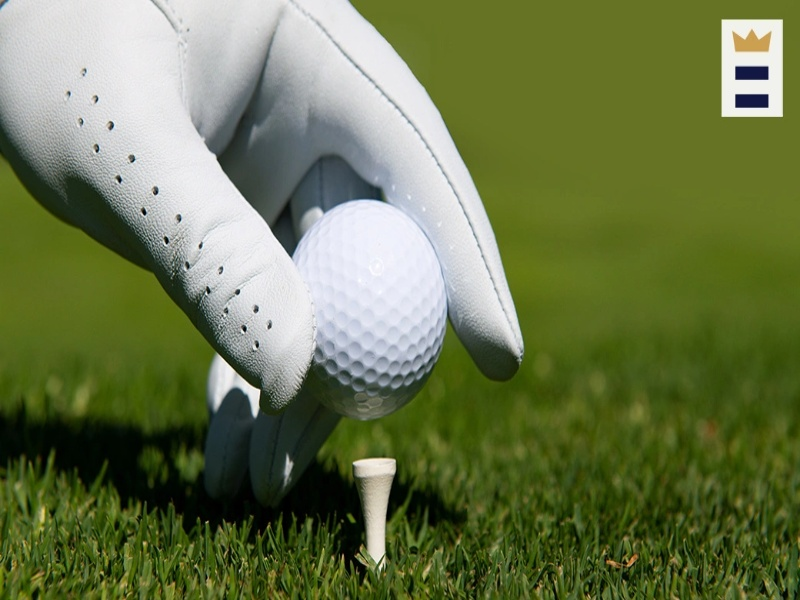golf_ball: (288, 198, 446, 420)
